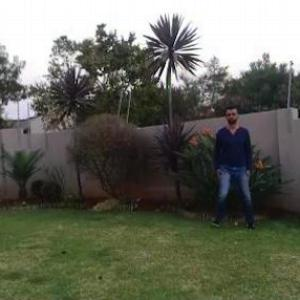follow: (214, 100, 251, 226)
